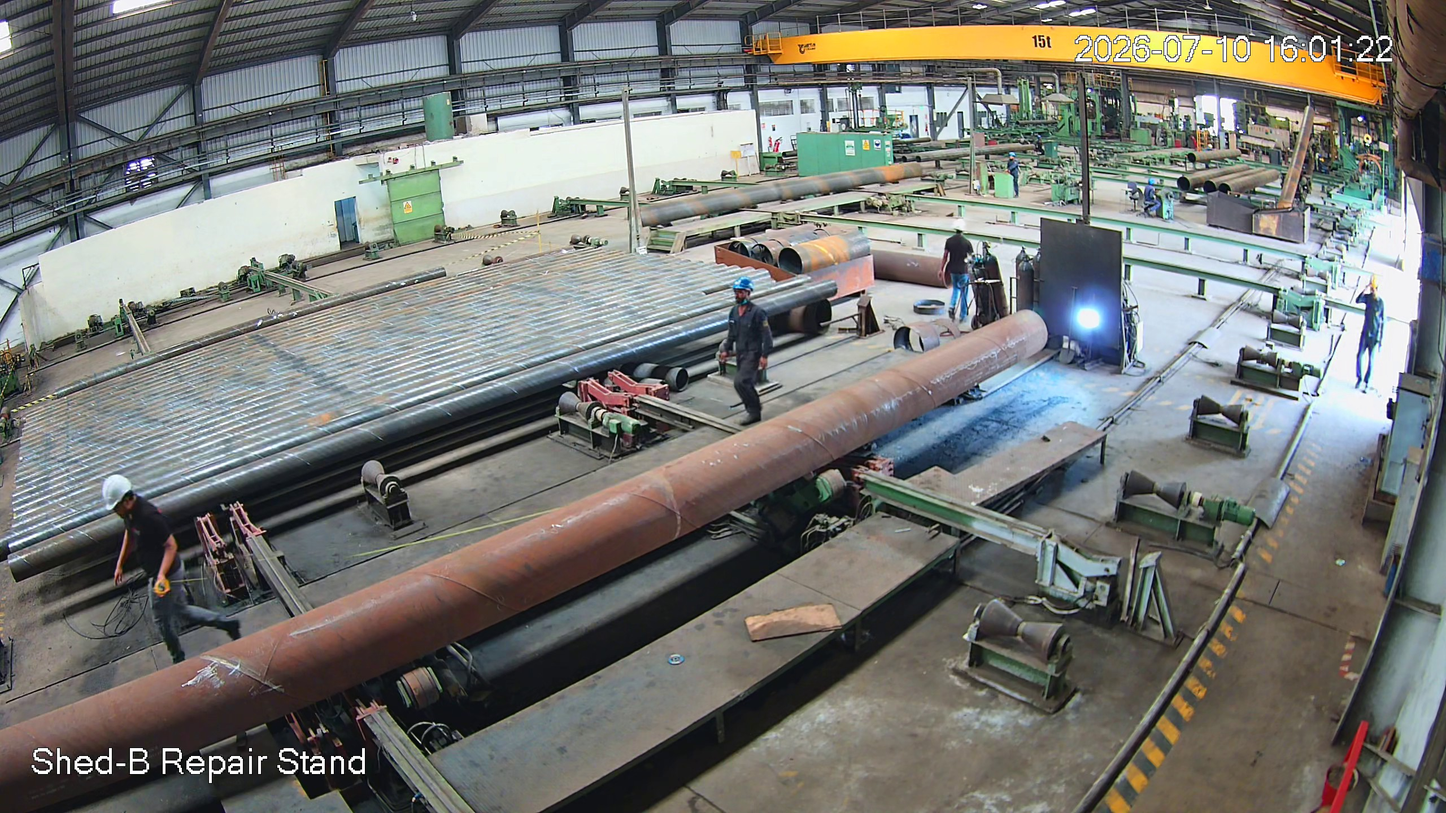Helmet: (97, 472, 152, 541), (727, 272, 764, 324), (1365, 265, 1387, 301), (948, 216, 969, 243)
Person: (88, 478, 253, 672), (718, 279, 773, 433), (1357, 272, 1391, 400), (940, 220, 972, 322)
